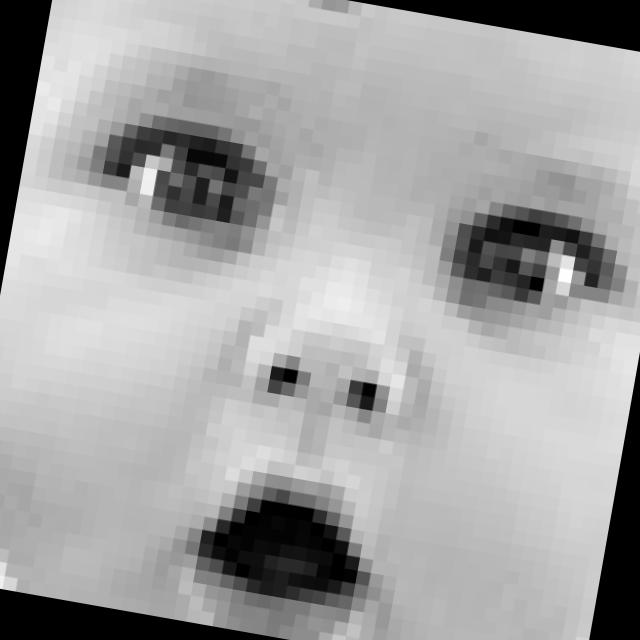surprise: (4, 85, 639, 640)
